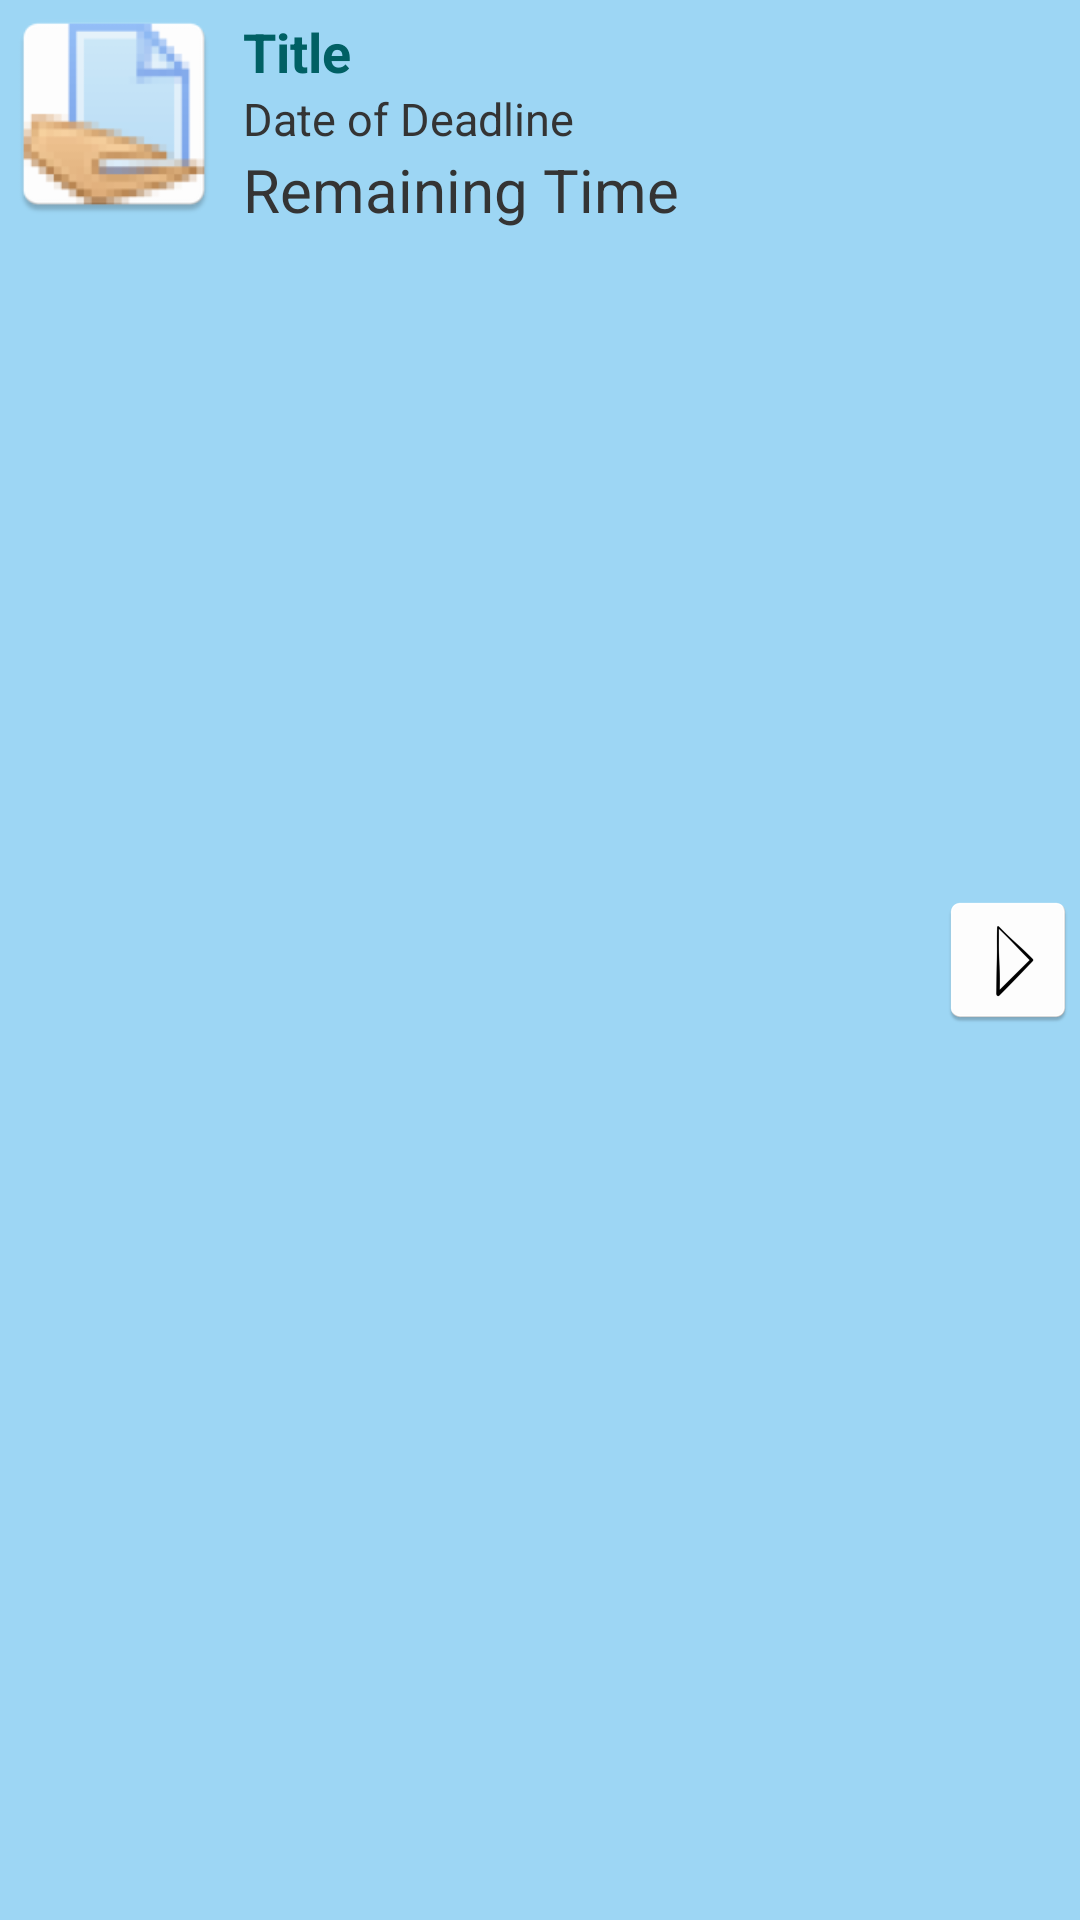

Named icons in this screenshot (1080px×1920px) and their bounding boxes, (x1=x1, y1=y1, x2=x2, y2=y2):
forward: (x1=951, y1=903, x2=1066, y2=1021)
